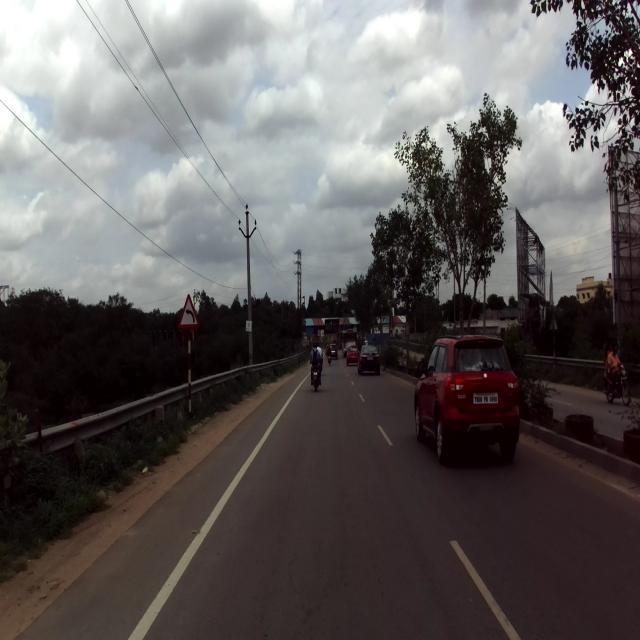Car_Maruti-Suzuki: (414, 332, 520, 464)
